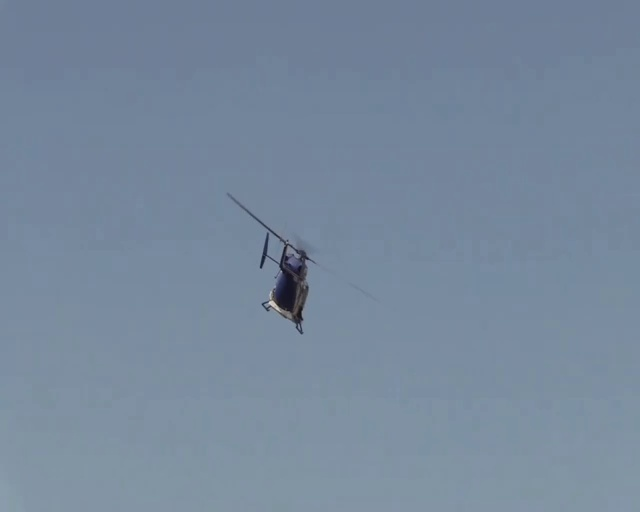HELICOPTER: (223, 191, 380, 336)
